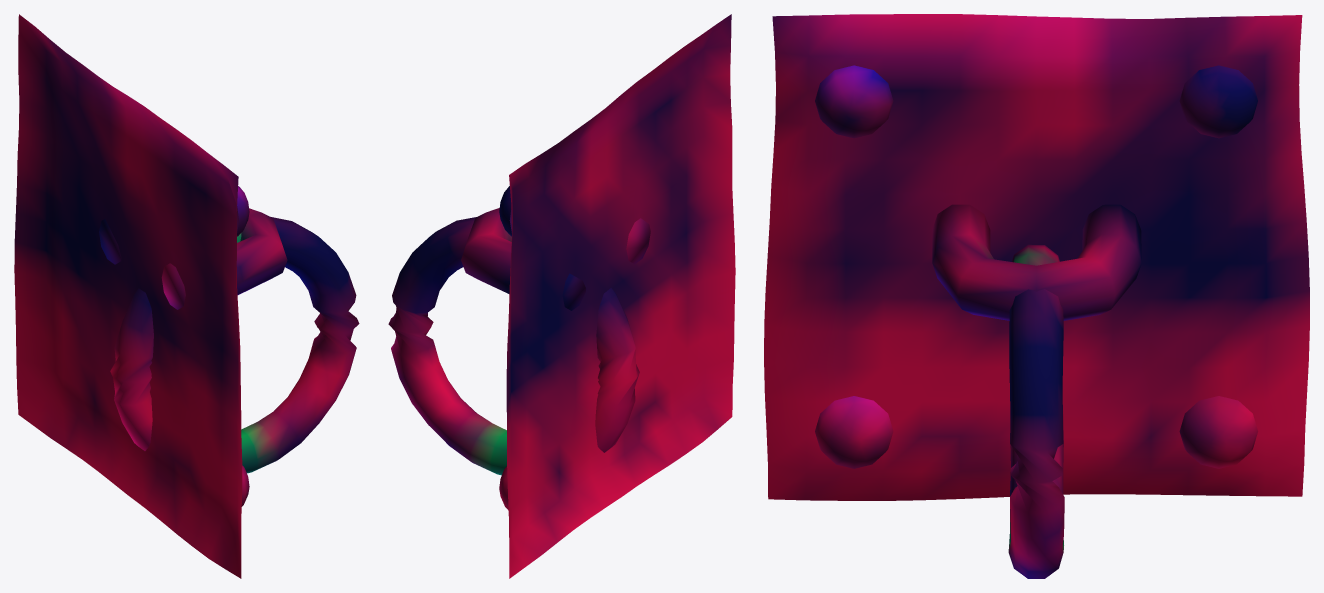
File: SM_ChainAnchor.fbx
The picture shows the model from 3 angles, left to right: view 1: azimuth 30°, elevation 25°; view 2: azimuth 150°, elevation 25°; view 3: azimuth 270°, elevation 25°; orthographic projection. The views are drawn at different scales.
Visible parts, largest first — view 1: SM_ChainAnchor; view 2: SM_ChainAnchor; view 3: SM_ChainAnchor.
Part boxes in pixels (<box>): SM_ChainAnchor: <box>14,14,359,578</box>; SM_ChainAnchor: <box>388,14,735,578</box>; SM_ChainAnchor: <box>764,14,1309,578</box>.
Size of the model in its own units: 1737 by 1076 by 1711.
